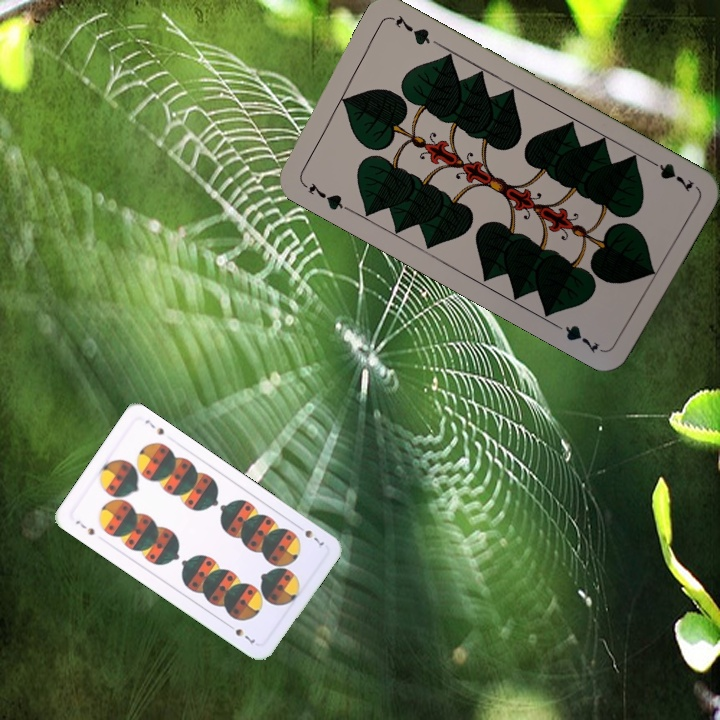G7: (643, 154, 697, 195), (298, 177, 352, 213)
S7: (293, 521, 327, 548), (71, 516, 97, 538)
